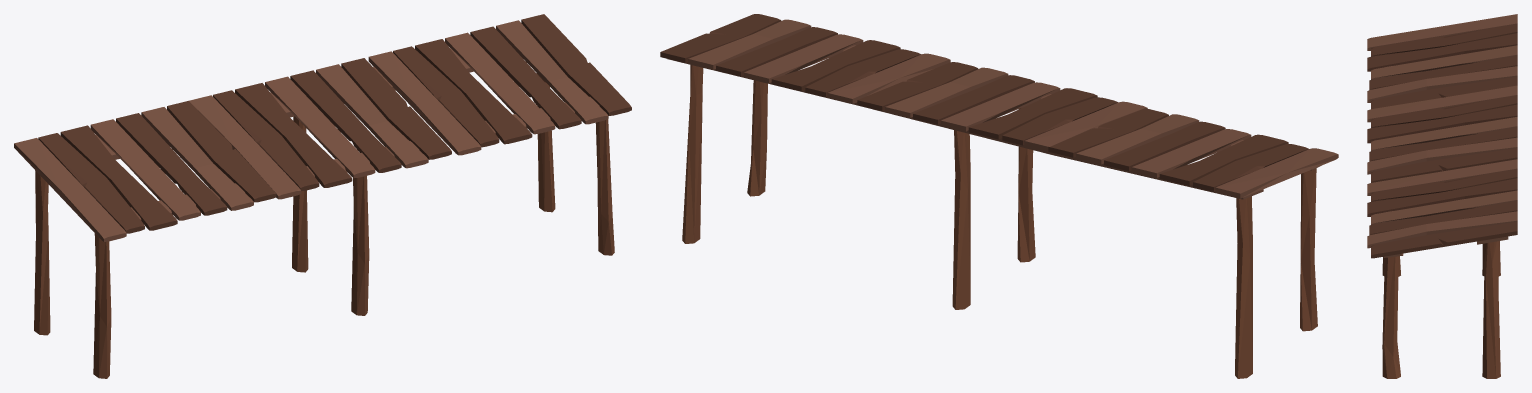
The model's file is Building_detai_2 Asia.fbx.
3 renders of one model, left to right at view 1: azimuth 30°, elevation 25°; view 2: azimuth 150°, elevation 25°; view 3: azimuth 270°, elevation 25°, orthographic. The views are drawn at different scales.
Parts seen in each view (by area): view 1: Building_detai_2; view 2: Building_detai_2; view 3: Building_detai_2.
Boxes of the visible parts, x1,y1,x2,y2 form: Building_detai_2: (14,14,631,378); Building_detai_2: (660,14,1338,378); Building_detai_2: (1367,14,1517,378).
Bounding box in the file's own units: 6.26 × 2.03 × 1.84.
